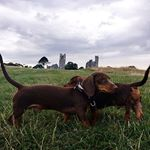puppy: (1, 70, 116, 131)
